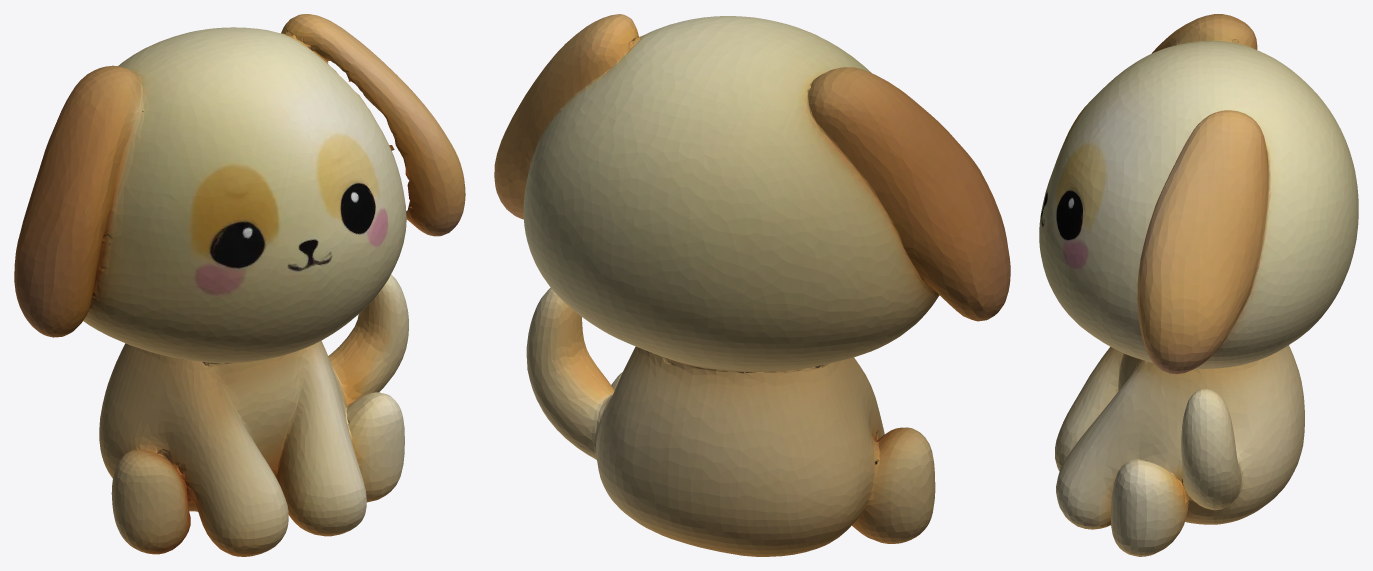
The model's file is dog.glb.
The picture shows the model from 3 angles, left to right: view 1: azimuth 30°, elevation 25°; view 2: azimuth 150°, elevation 25°; view 3: azimuth 270°, elevation 25°; orthographic projection. The views are drawn at different scales.
Visible parts, largest first — view 1: geometry_0; view 2: geometry_0; view 3: geometry_0.
Boxes of the visible parts, x1,y1,x2,y2 form: geometry_0: [14, 14, 465, 556]; geometry_0: [494, 14, 1010, 556]; geometry_0: [1039, 14, 1358, 556].
Size of the model in its own units: 0.9992 by 0.9927 by 0.651.
1 material, 1 textured.
